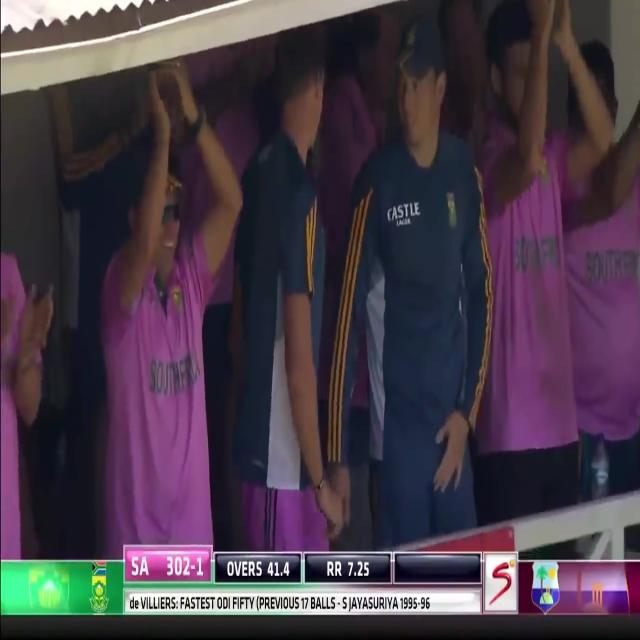Ball: (186, 3, 638, 521), (1, 80, 227, 555)
